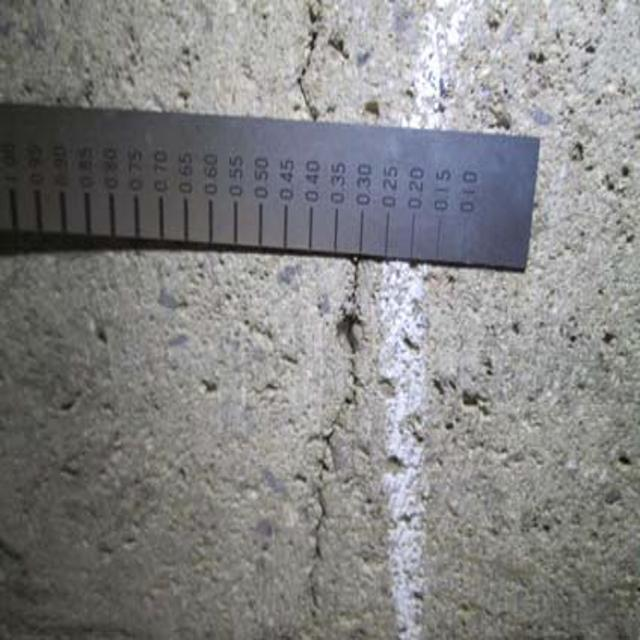crack: (277, 280, 382, 613), (274, 10, 326, 117)
